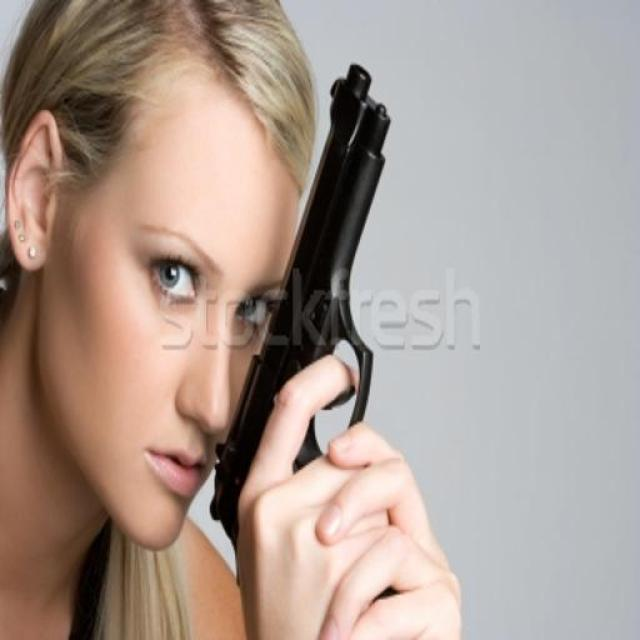pistol: (196, 40, 396, 555)
